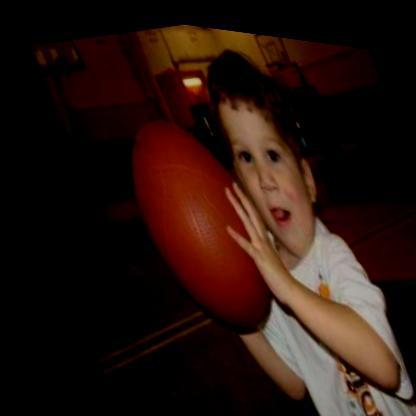basketball: (88, 89, 298, 353)
